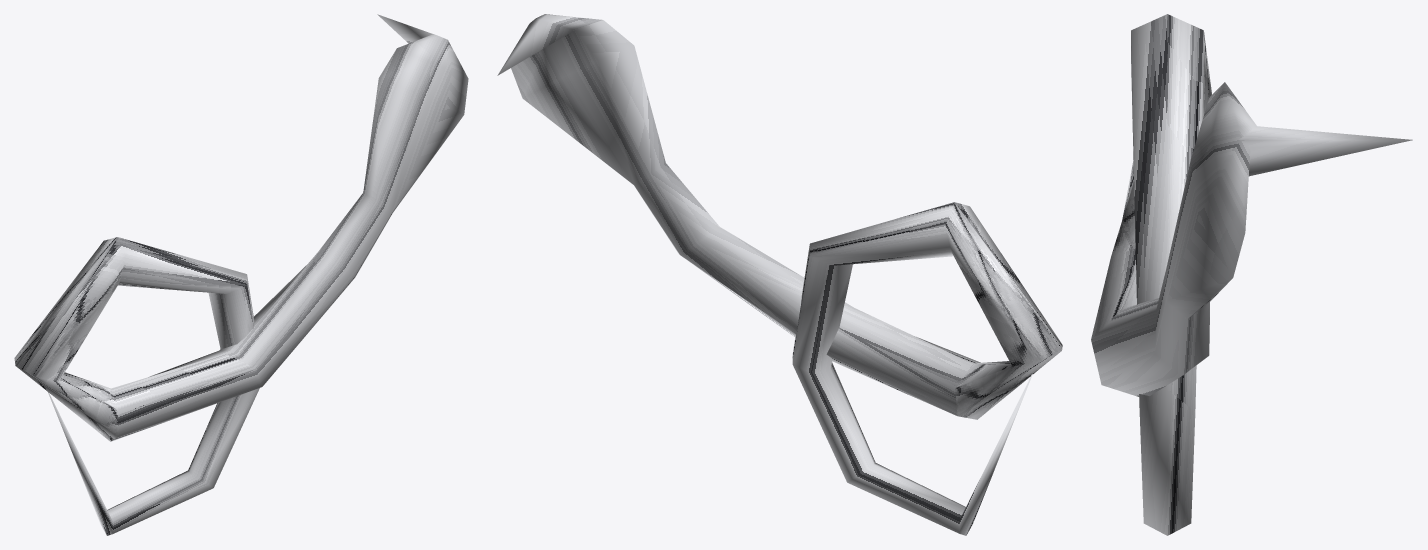
The model's file is snake_000072.obj.
The picture shows the model from 3 angles, left to right: view 1: azimuth 30°, elevation 25°; view 2: azimuth 150°, elevation 25°; view 3: azimuth 270°, elevation 25°; orthographic projection. The views are drawn at different scales.
Visible parts, largest first — view 1: Cylinder; view 2: Cylinder; view 3: Cylinder.
Part boxes in pixels (<box>): Cylinder: <box>14,14,468,535</box>; Cylinder: <box>497,14,1062,535</box>; Cylinder: <box>1091,14,1412,535</box>.
Size of the model in its own units: 4.08 by 3.29 by 1.47.
